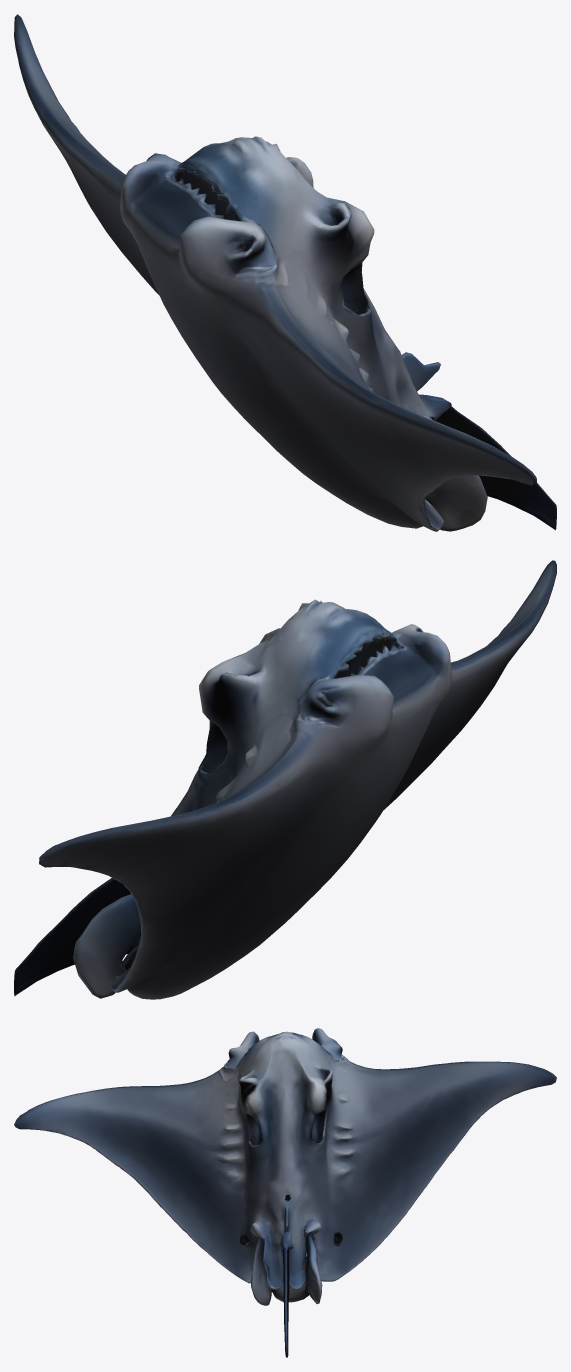
File: manta.glb
3 renders of one model, top to bottom at view 1: azimuth 30°, elevation 25°; view 2: azimuth 150°, elevation 25°; view 3: azimuth 270°, elevation 25°, orthographic. The views are drawn at different scales.
Parts seen in each view (by area): view 1: tripo_node_7e254df2-71c2-423a-82c1-1ff32527dcca; view 2: tripo_node_7e254df2-71c2-423a-82c1-1ff32527dcca; view 3: tripo_node_7e254df2-71c2-423a-82c1-1ff32527dcca.
Boxes of the visible parts, bbox=[...] form: tripo_node_7e254df2-71c2-423a-82c1-1ff32527dcca: bbox=[14, 14, 556, 531]; tripo_node_7e254df2-71c2-423a-82c1-1ff32527dcca: bbox=[14, 560, 556, 999]; tripo_node_7e254df2-71c2-423a-82c1-1ff32527dcca: bbox=[14, 1028, 556, 1357].
Bounding box in the file's own units: 0.4539 × 0.4998 × 1.
1 material, 1 textured.
